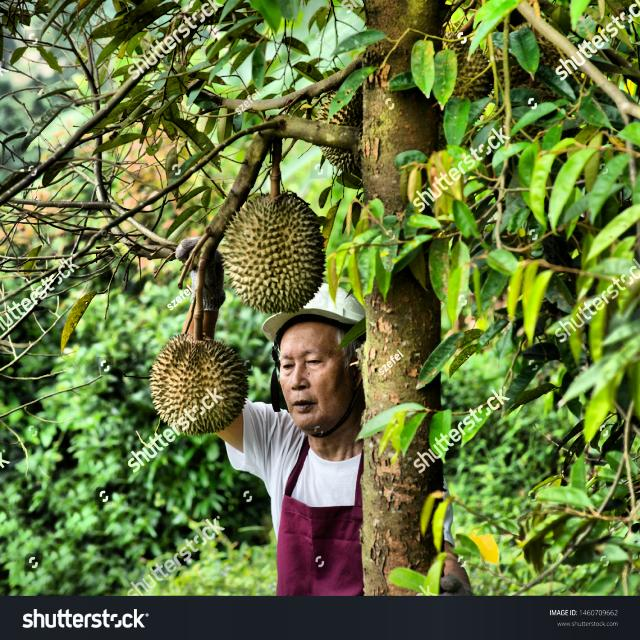arvore: (337, 0, 465, 602)
